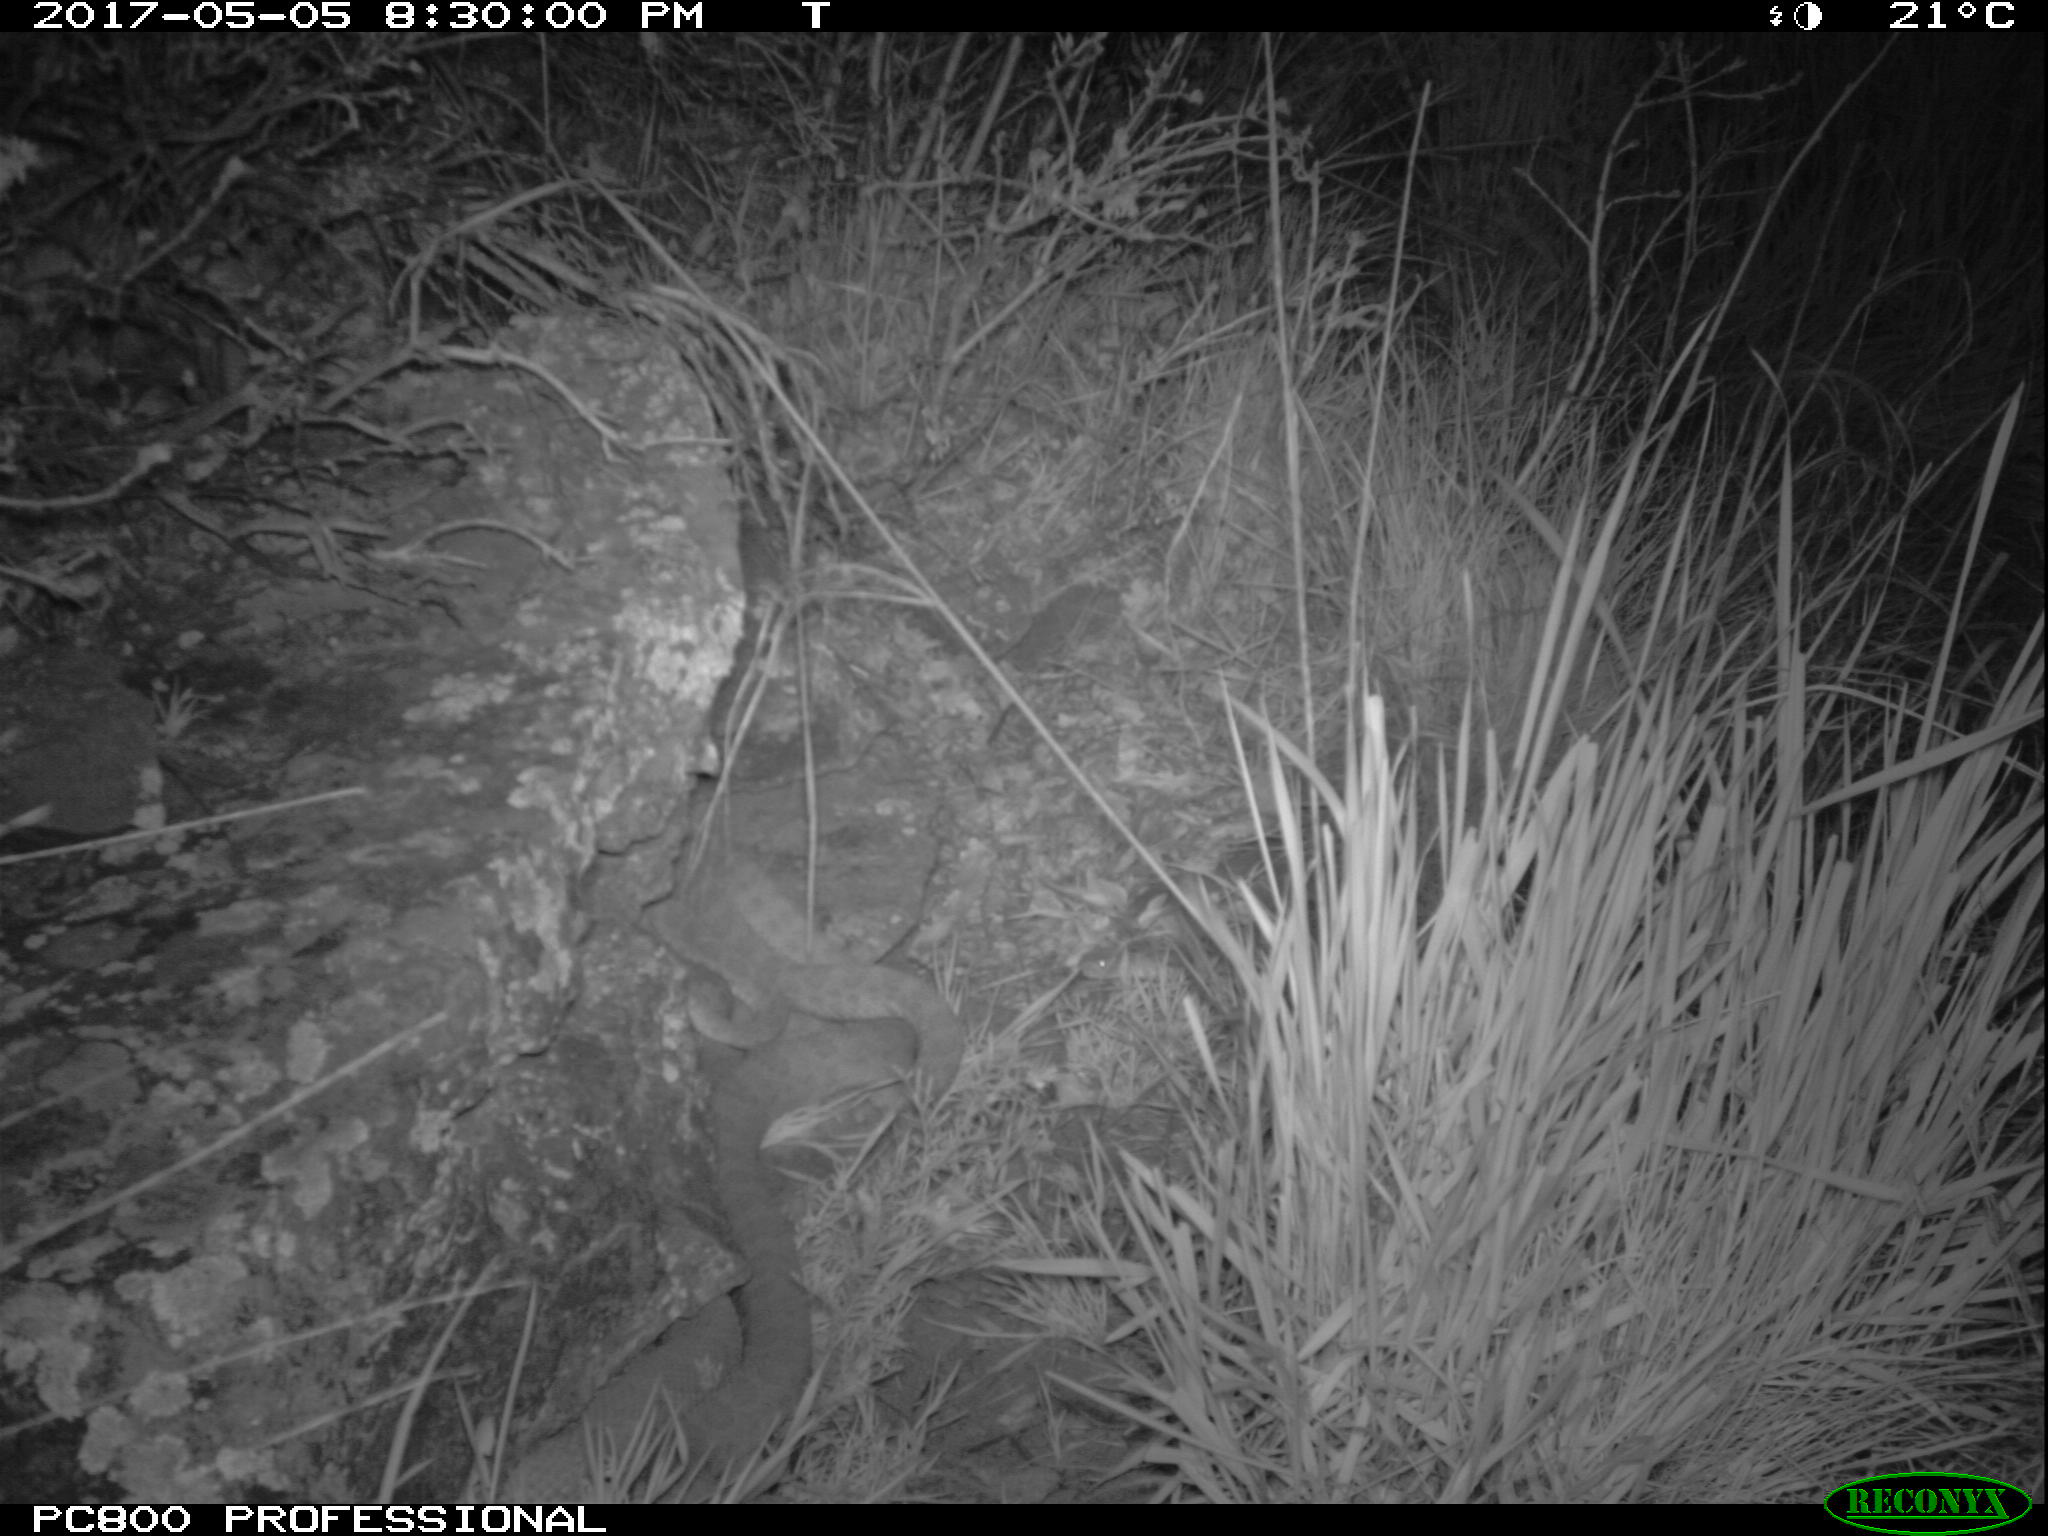snake: (669, 870, 985, 1129), (474, 1312, 810, 1492), (690, 1126, 827, 1480)
